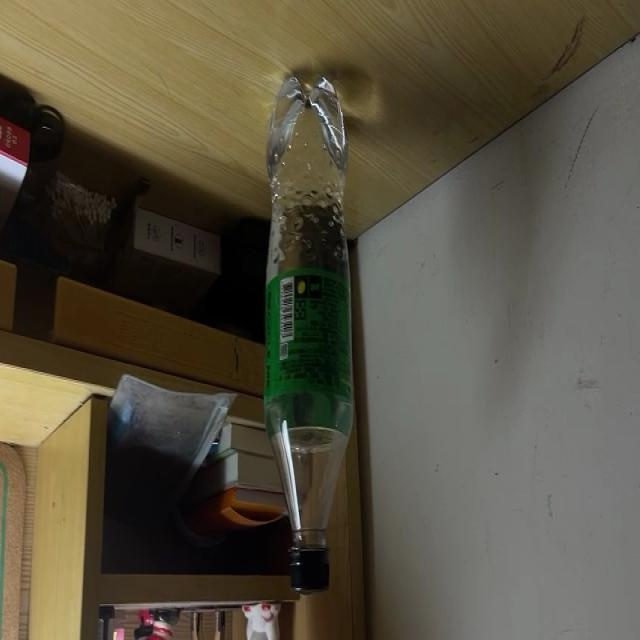Sprite: (264, 68, 355, 597)
